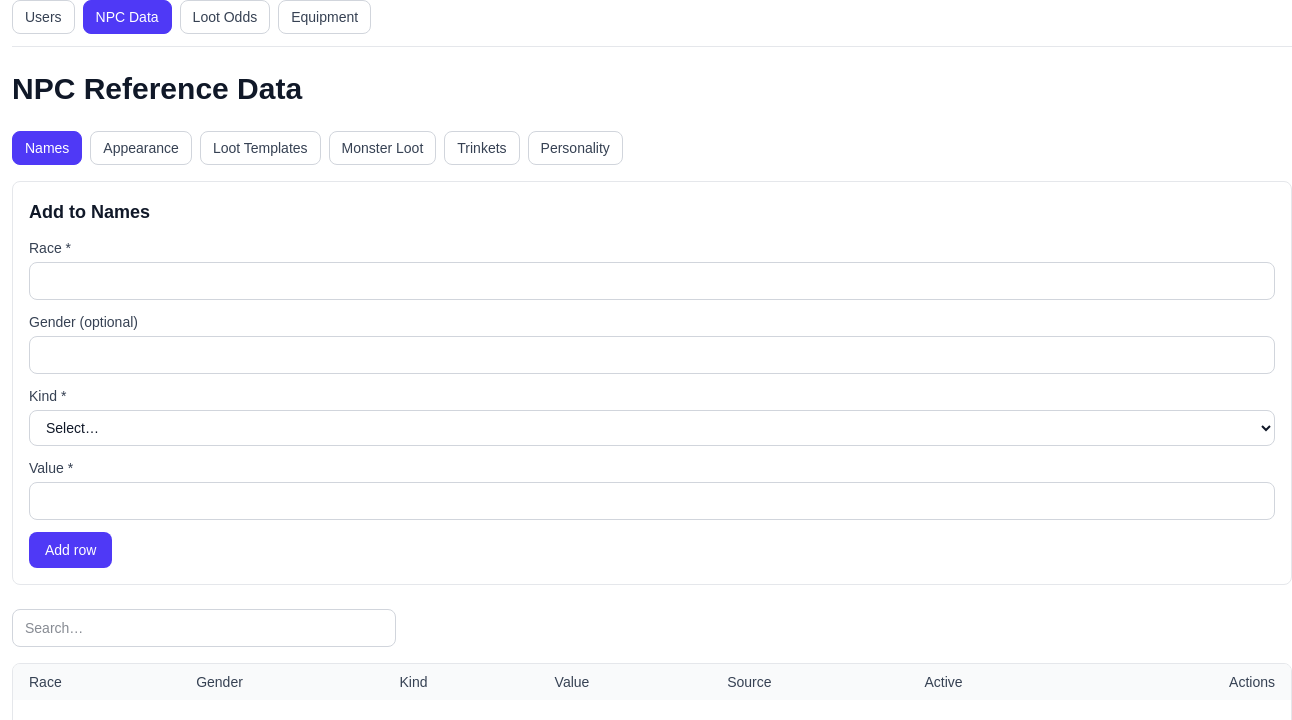
AdminNpcDataPage › ignores an out-of-order response from a previously selected tab
Click the tab "Personality".
click(575, 148)  # box [528, 131, 623, 165]
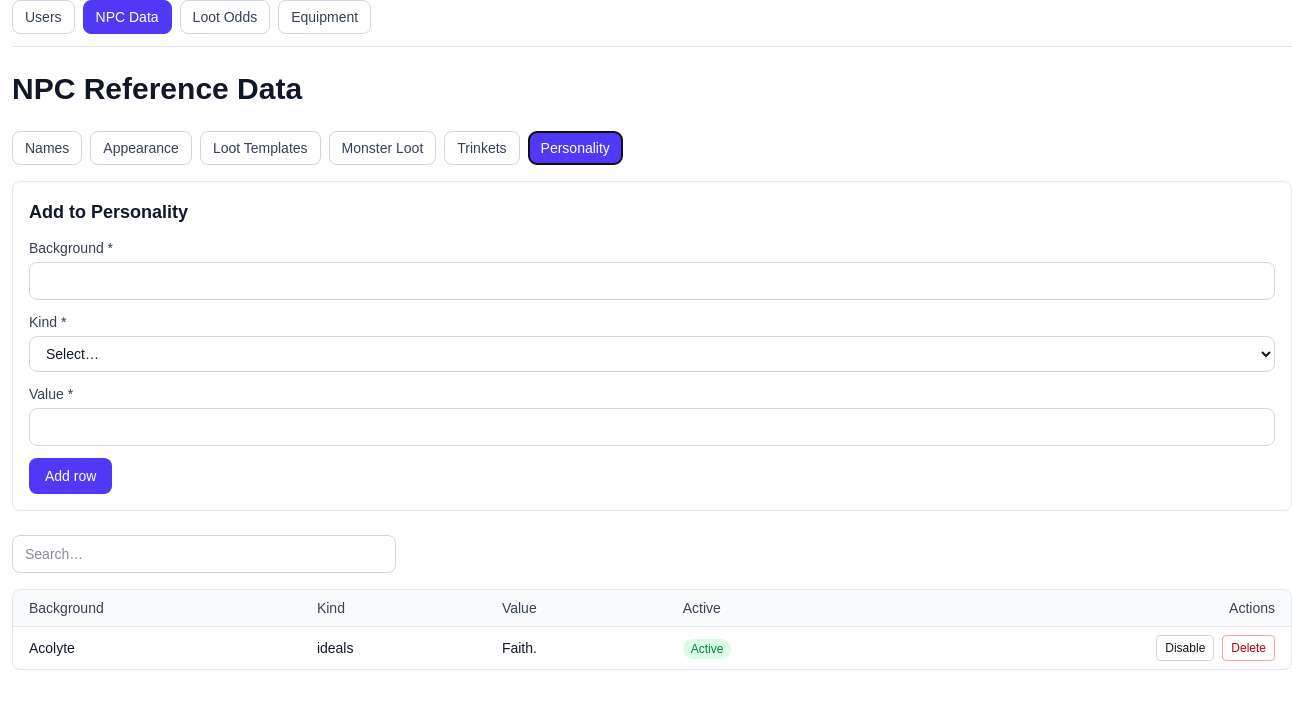
Now the text "Faith." is shown, box [486, 626, 667, 669]
